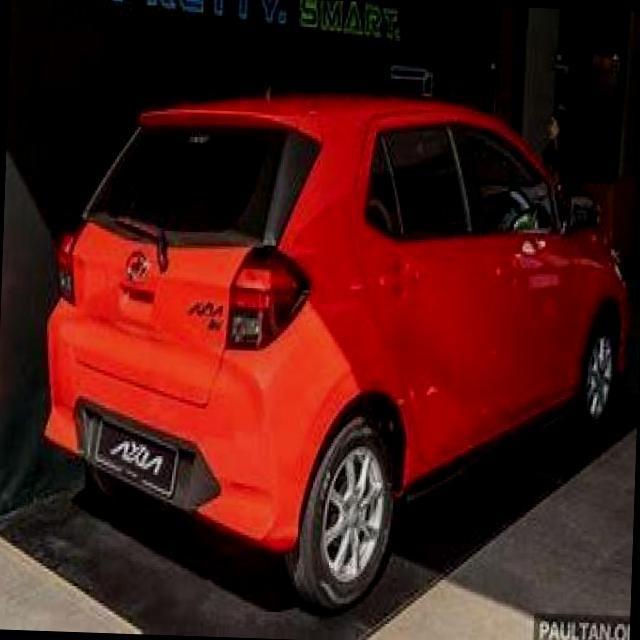PeroduaAxia: (33, 80, 639, 624)
